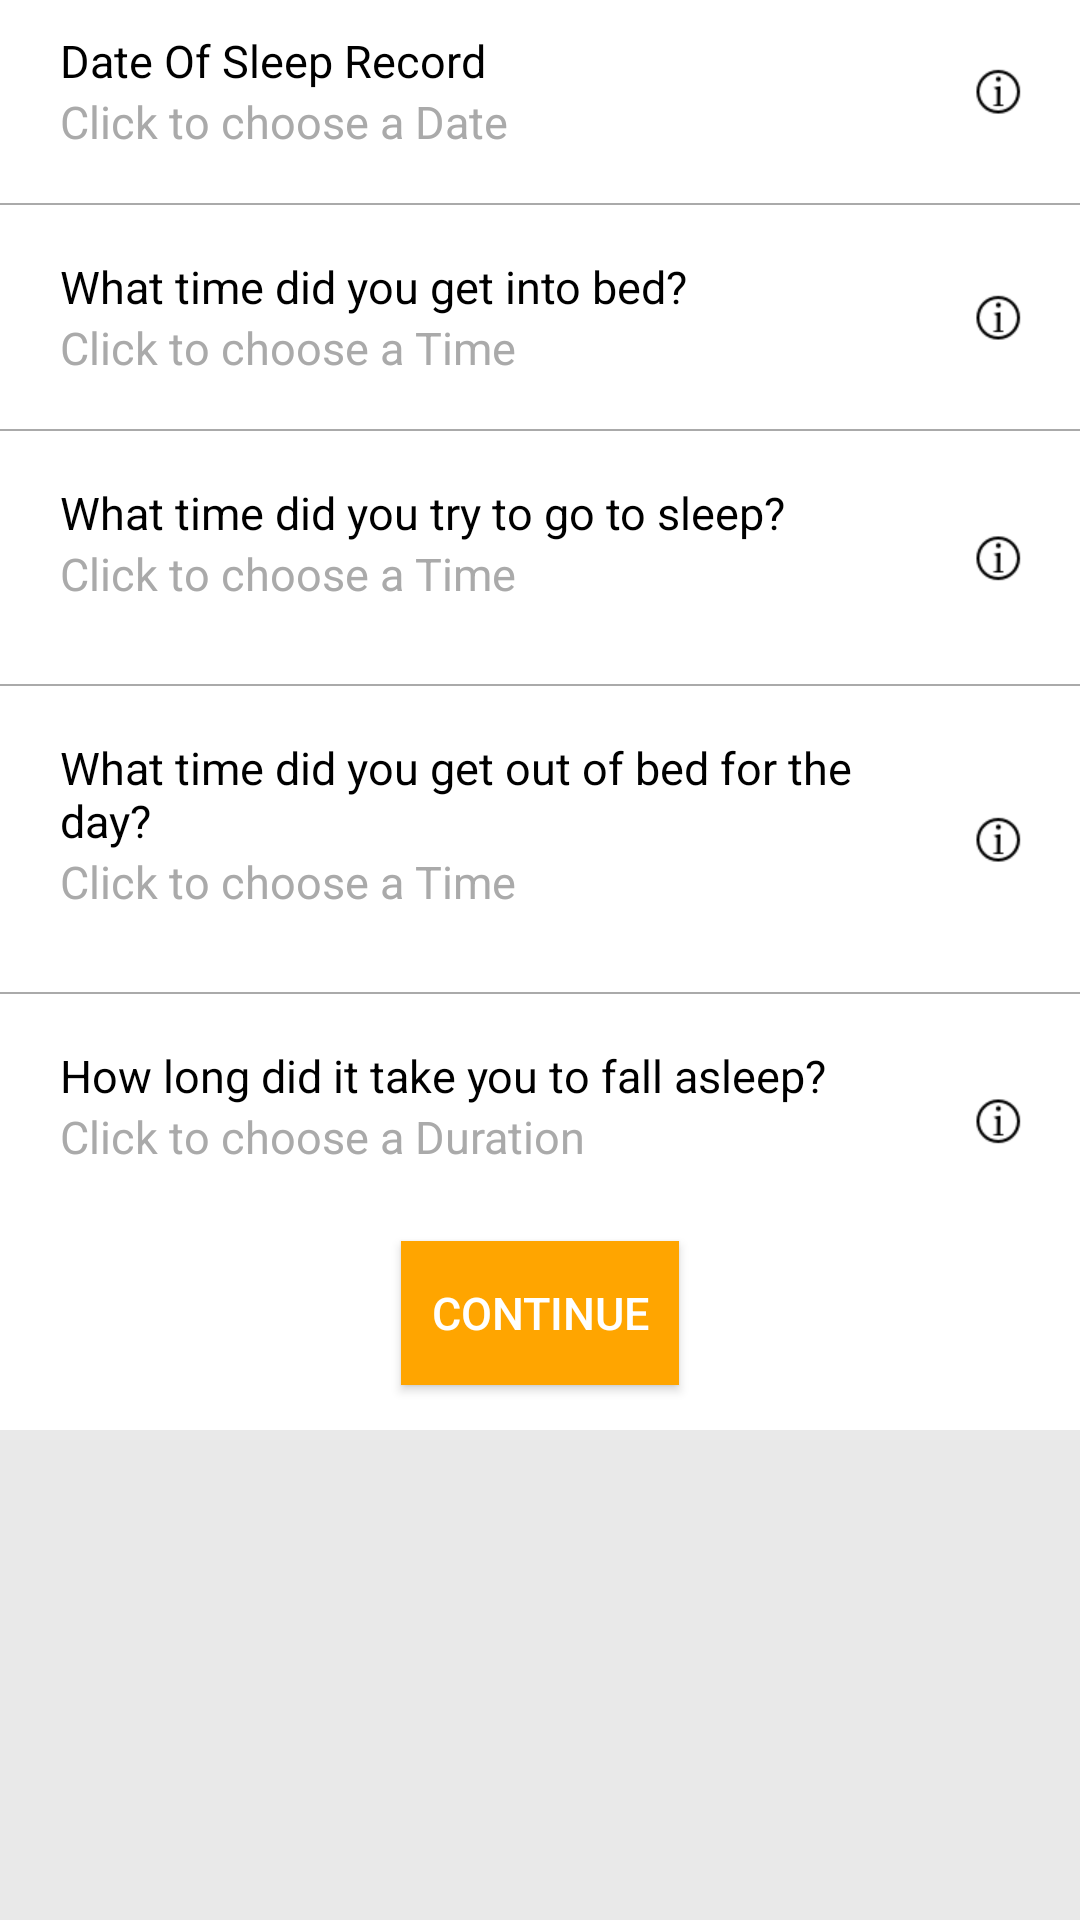

Named icons in this screenshot (1080 × 1920) and their bounding boxes, {"x1": x1, "y1": y1, "x2": x2, "y2": y2}:
info: {"x1": 976, "y1": 69, "x2": 1021, "y2": 114}, {"x1": 976, "y1": 295, "x2": 1021, "y2": 340}, {"x1": 976, "y1": 536, "x2": 1021, "y2": 581}, {"x1": 976, "y1": 817, "x2": 1021, "y2": 862}, {"x1": 976, "y1": 1099, "x2": 1021, "y2": 1144}
